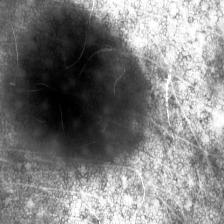Benign Marking or Mole: (3, 11, 150, 161)
